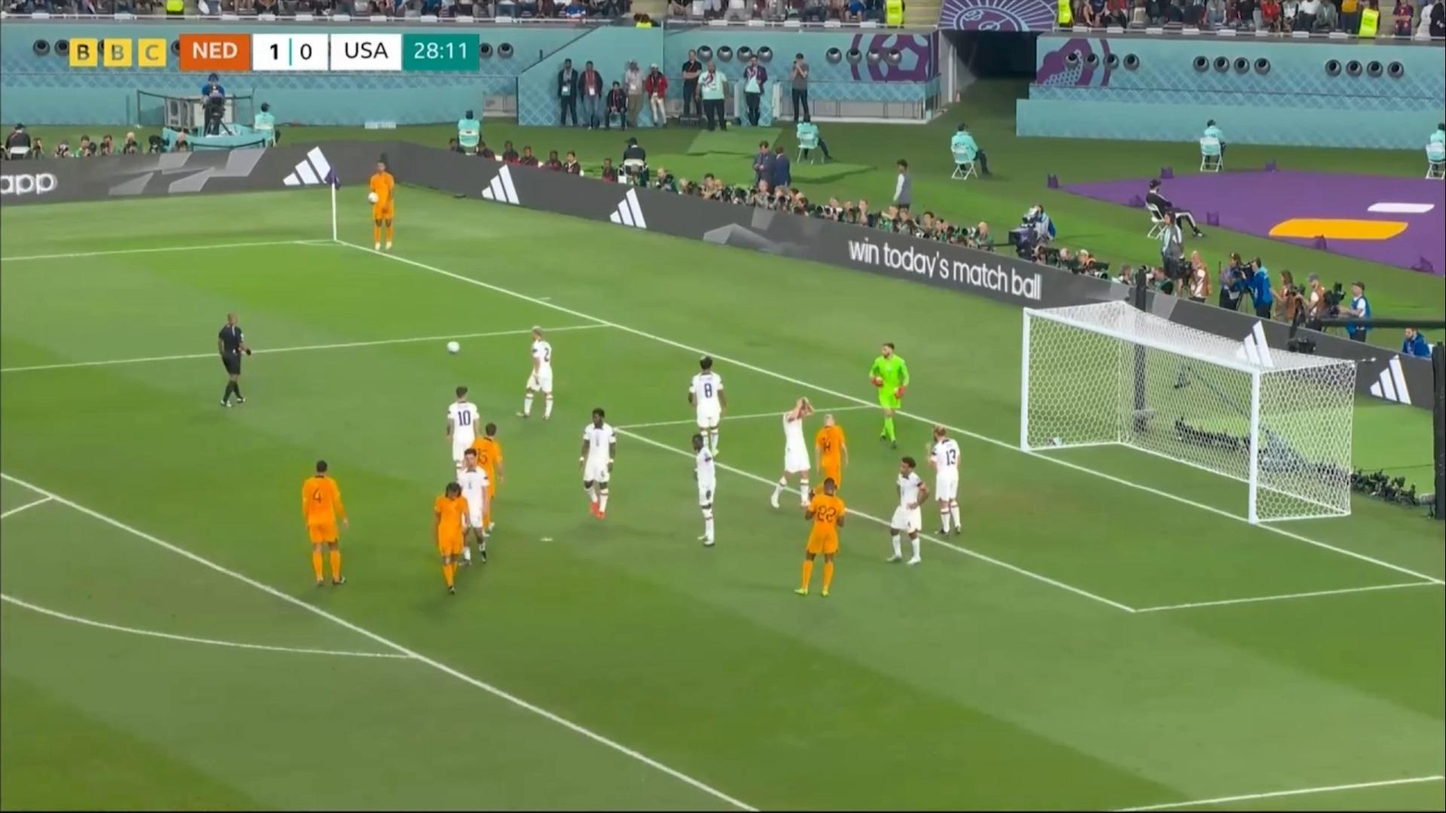Ball: (448, 341, 461, 354), (366, 191, 379, 204)
Player: (289, 456, 355, 592), (794, 477, 845, 598), (431, 481, 473, 600), (887, 456, 932, 567), (771, 397, 814, 512), (464, 420, 506, 532), (578, 406, 618, 520), (687, 354, 728, 462), (924, 423, 963, 536), (442, 386, 486, 486), (868, 343, 909, 450), (359, 155, 403, 253), (455, 448, 491, 566), (814, 415, 854, 515), (516, 324, 555, 422), (688, 432, 718, 549)
Ref: (213, 310, 252, 412)
